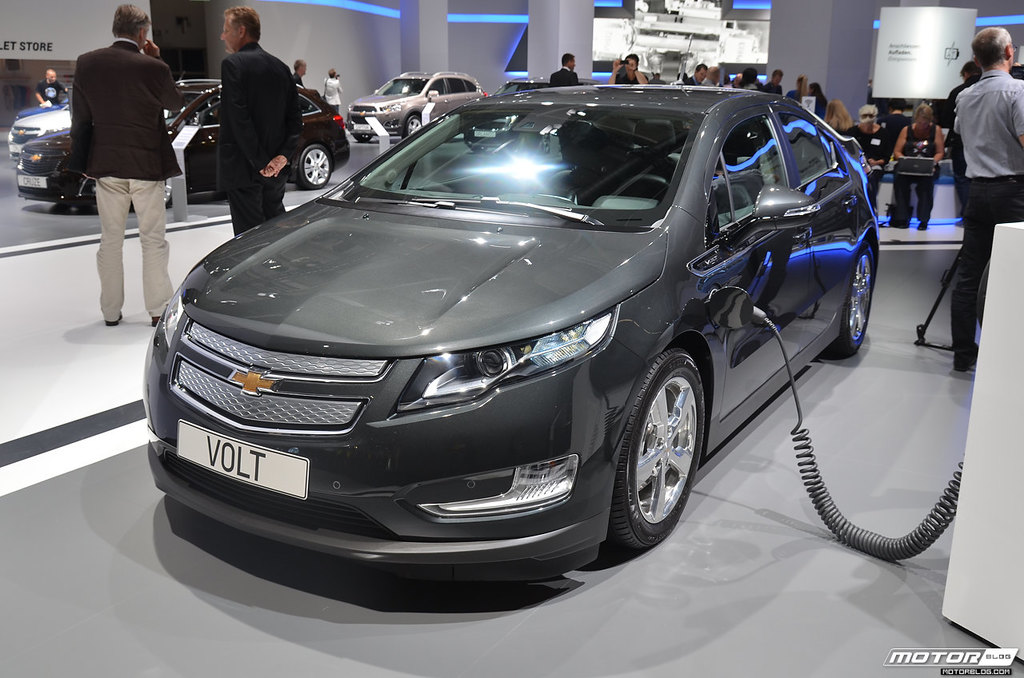Person: (547, 53, 944, 230), (70, 4, 183, 326), (950, 25, 1024, 372), (214, 4, 304, 235), (34, 69, 67, 104), (321, 68, 341, 112), (293, 59, 308, 85)
